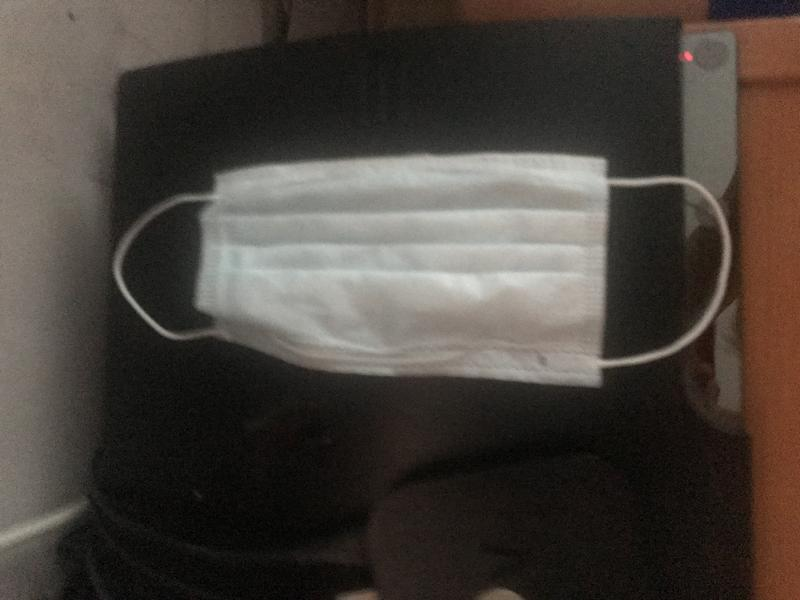medical_mask: (111, 153, 732, 390)
